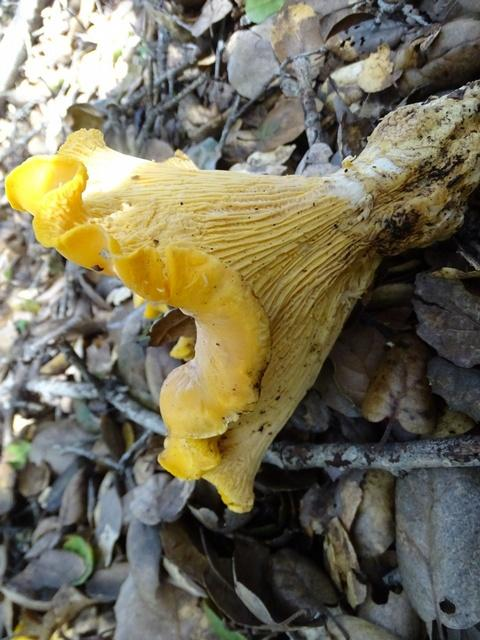edible_mushroom: (4, 77, 478, 515)
